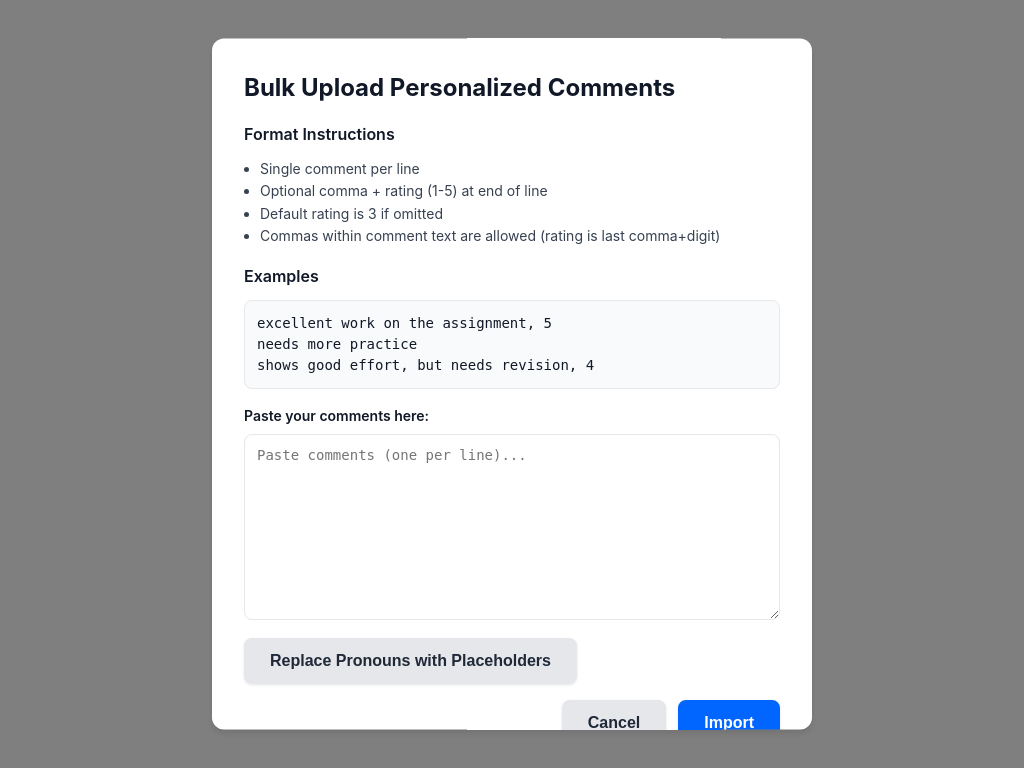
BulkUploadModal - Story 6 & 7: Edge Cases and Results › AC4: Network errors › should show user-friendly error message on network failure
In the text box: (512,527) [244,434,780,620], type "test comment"
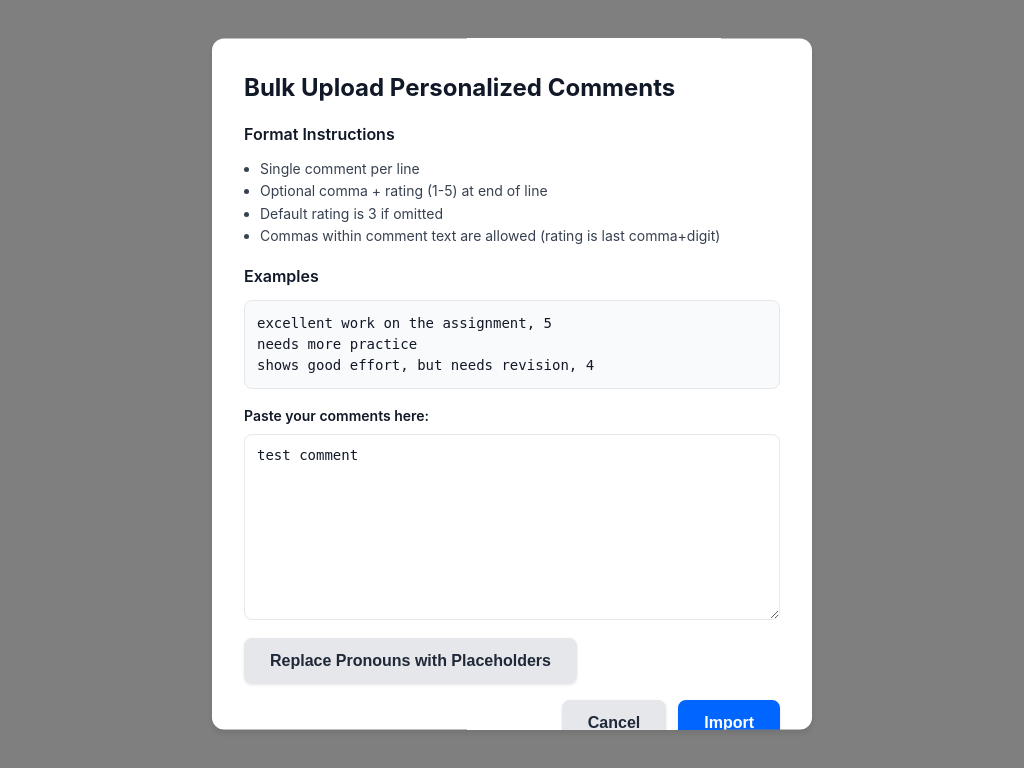
Click the button "Import": (729,723) [678,700,780,746]
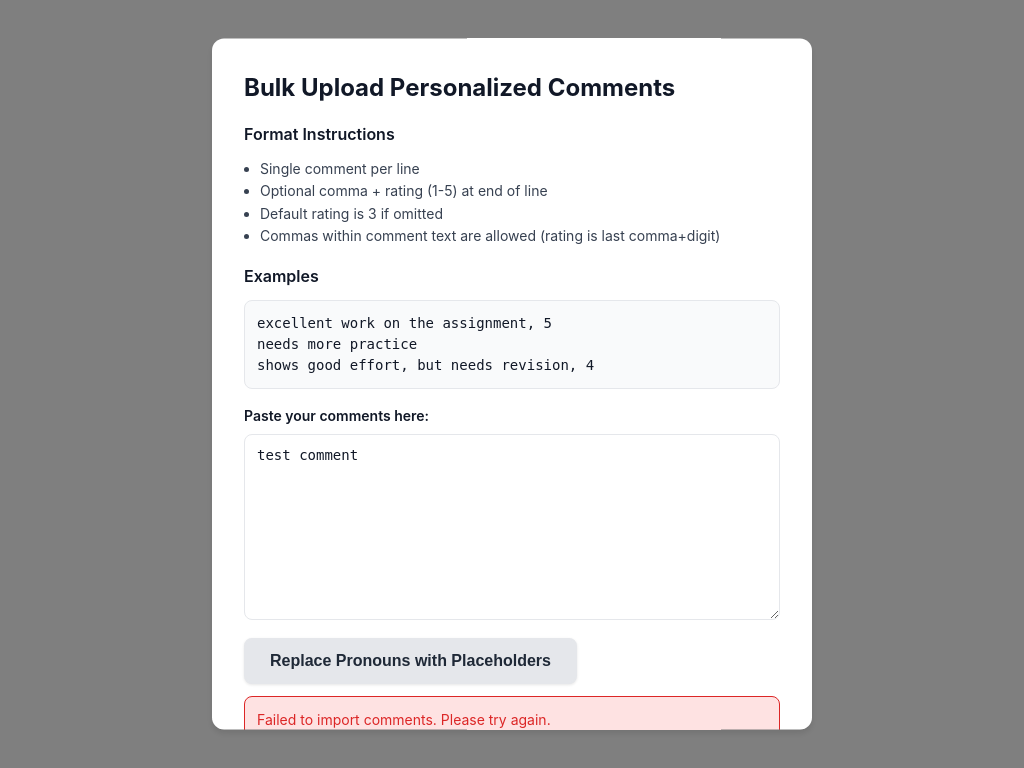
Expected: the text "Failed to import comments. Please try again." is shown, [244,696,780,730]
